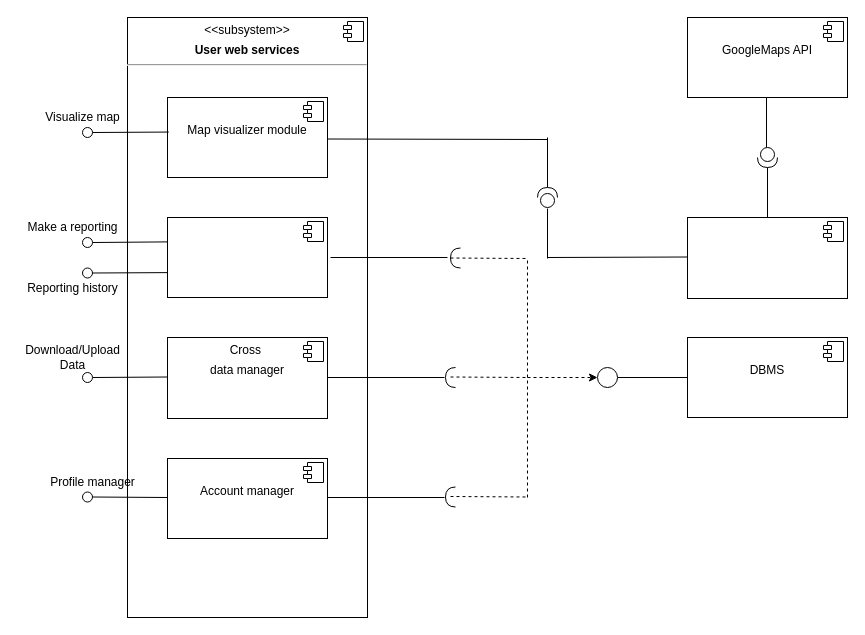
Some shapes in this 865 by 635 pixel diagram are drawn without their labels. The shapes that lost their labels are listed below. From the top down, each one's centre as x and y in pixels, then its label:
point (247, 257): Make reportings module
point (767, 257): SafeStreet map
